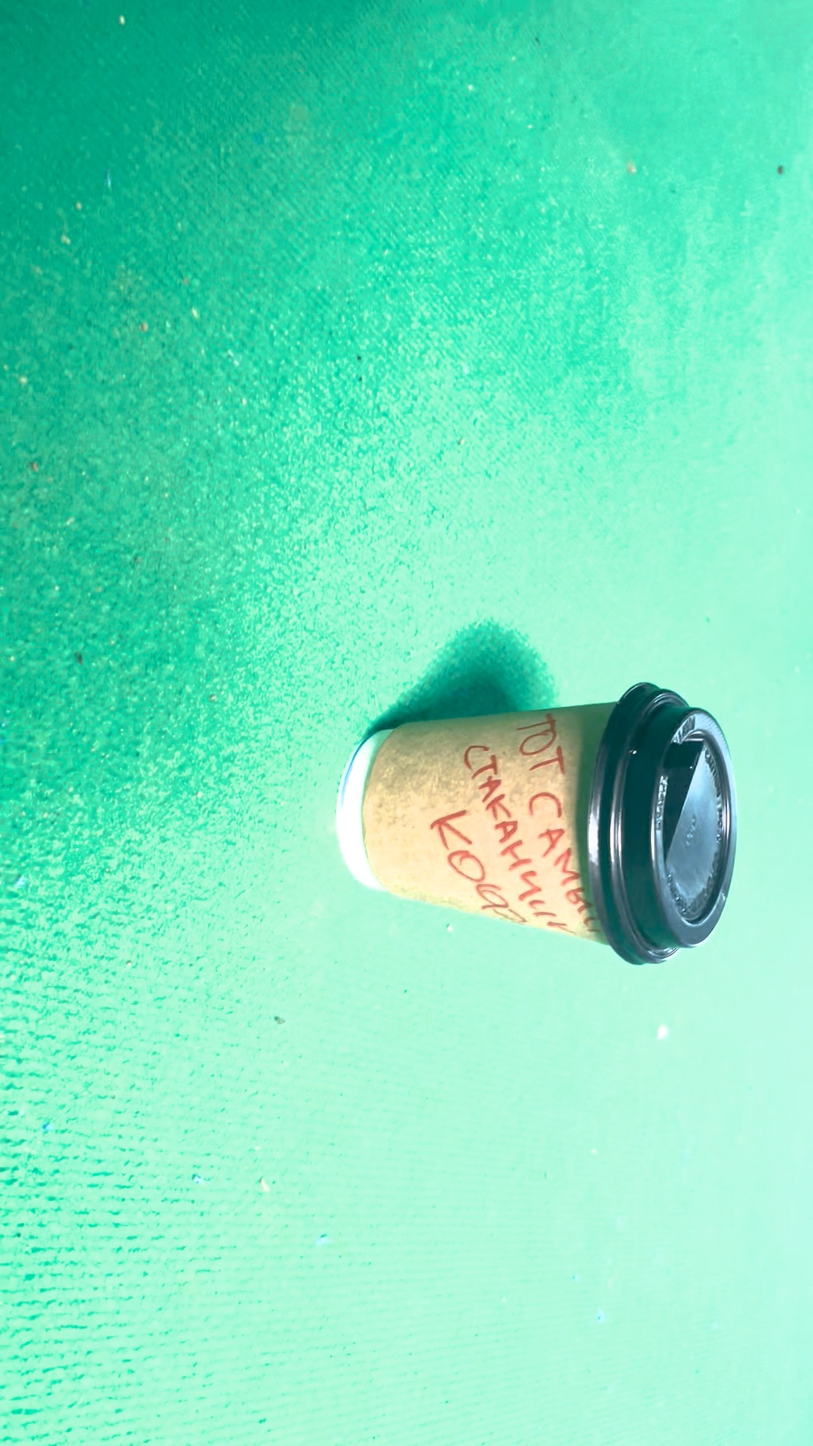cup: (408, 414, 490, 831)
